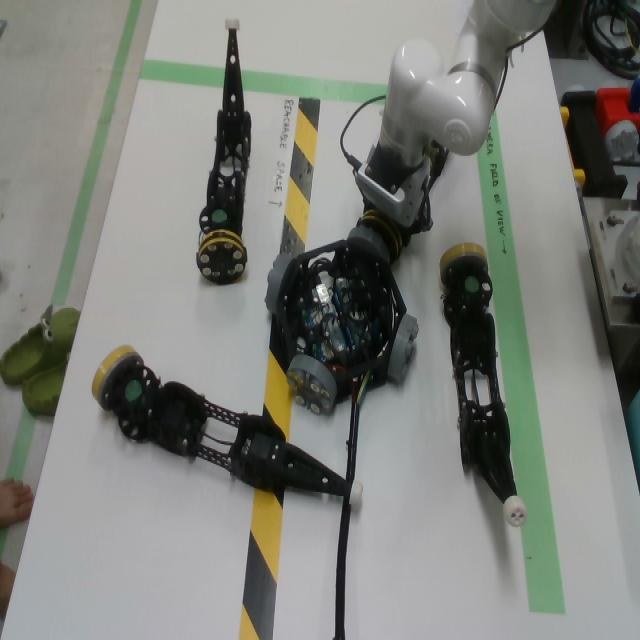body: (278, 240, 406, 400)
body_connector: (286, 355, 337, 415), (387, 313, 419, 381), (265, 253, 296, 313), (347, 227, 391, 264)
gripper: (363, 157, 433, 248)
leg: (90, 344, 363, 505), (439, 243, 527, 529), (195, 19, 251, 285)
leg_connector: (92, 345, 144, 412), (195, 229, 247, 285), (357, 209, 403, 264), (439, 243, 489, 287)
leg_marker: (126, 380, 142, 401), (465, 276, 478, 292), (212, 210, 227, 221)
